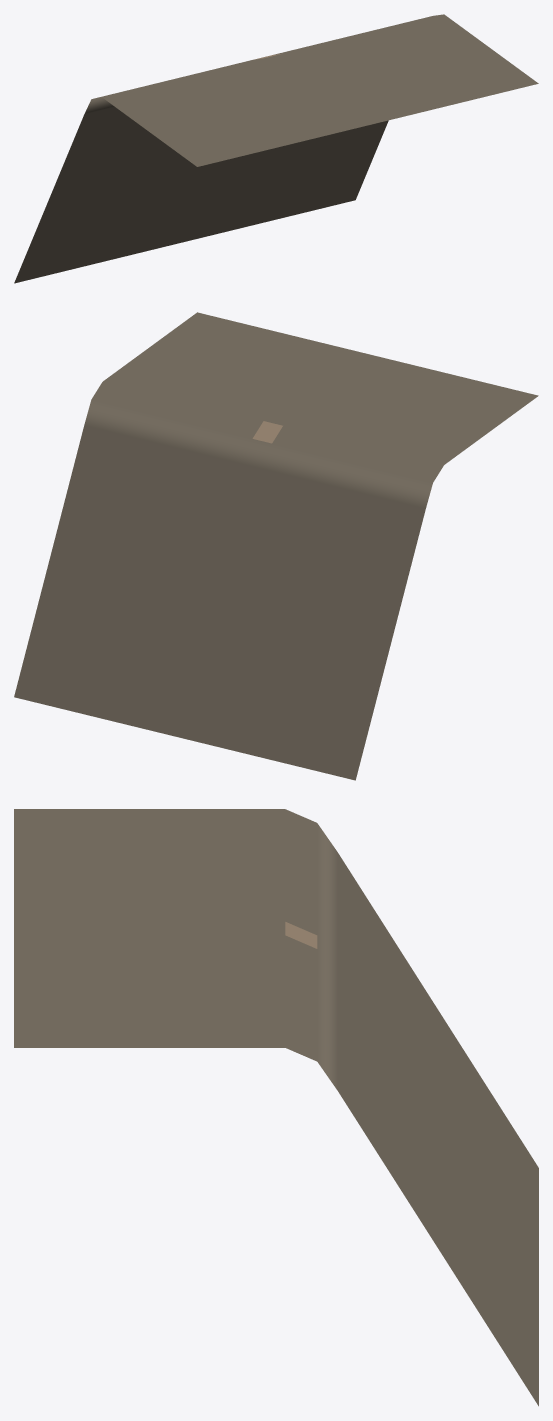
File: board-terrain-user-v1.glb
3 renders of one model, top to bottom at view 1: azimuth 30°, elevation 25°; view 2: azimuth 150°, elevation 25°; view 3: azimuth 270°, elevation 25°, orthographic. The views are drawn at different scales.
Parts seen in each view (by area): view 1: BoardTerrainUserV1; view 2: BoardTerrainUserV1; view 3: BoardTerrainUserV1.
Part boxes in pixels (box(x1,y1,x2,y2)): BoardTerrainUserV1: box(14, 14, 538, 283); BoardTerrainUserV1: box(14, 312, 538, 780); BoardTerrainUserV1: box(14, 809, 538, 1406).
Bounding box in the file's own units: 360 × 252 × 335.
